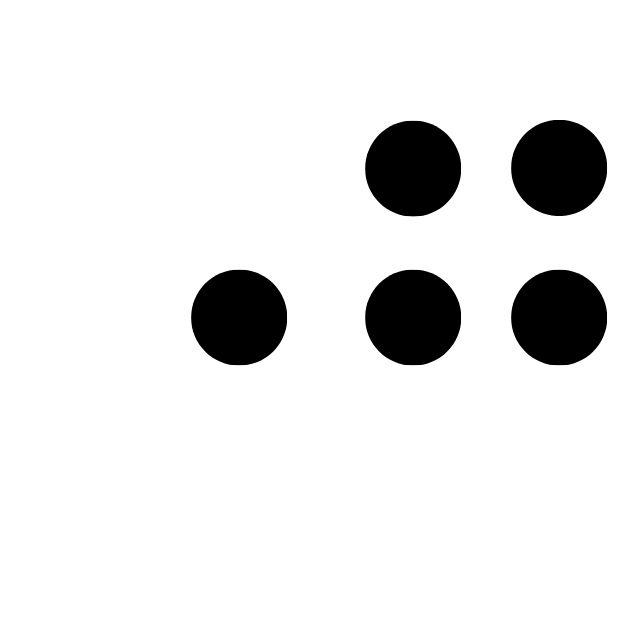dot_5: (44, 118, 286, 499)
gunita: (365, 120, 607, 501)
